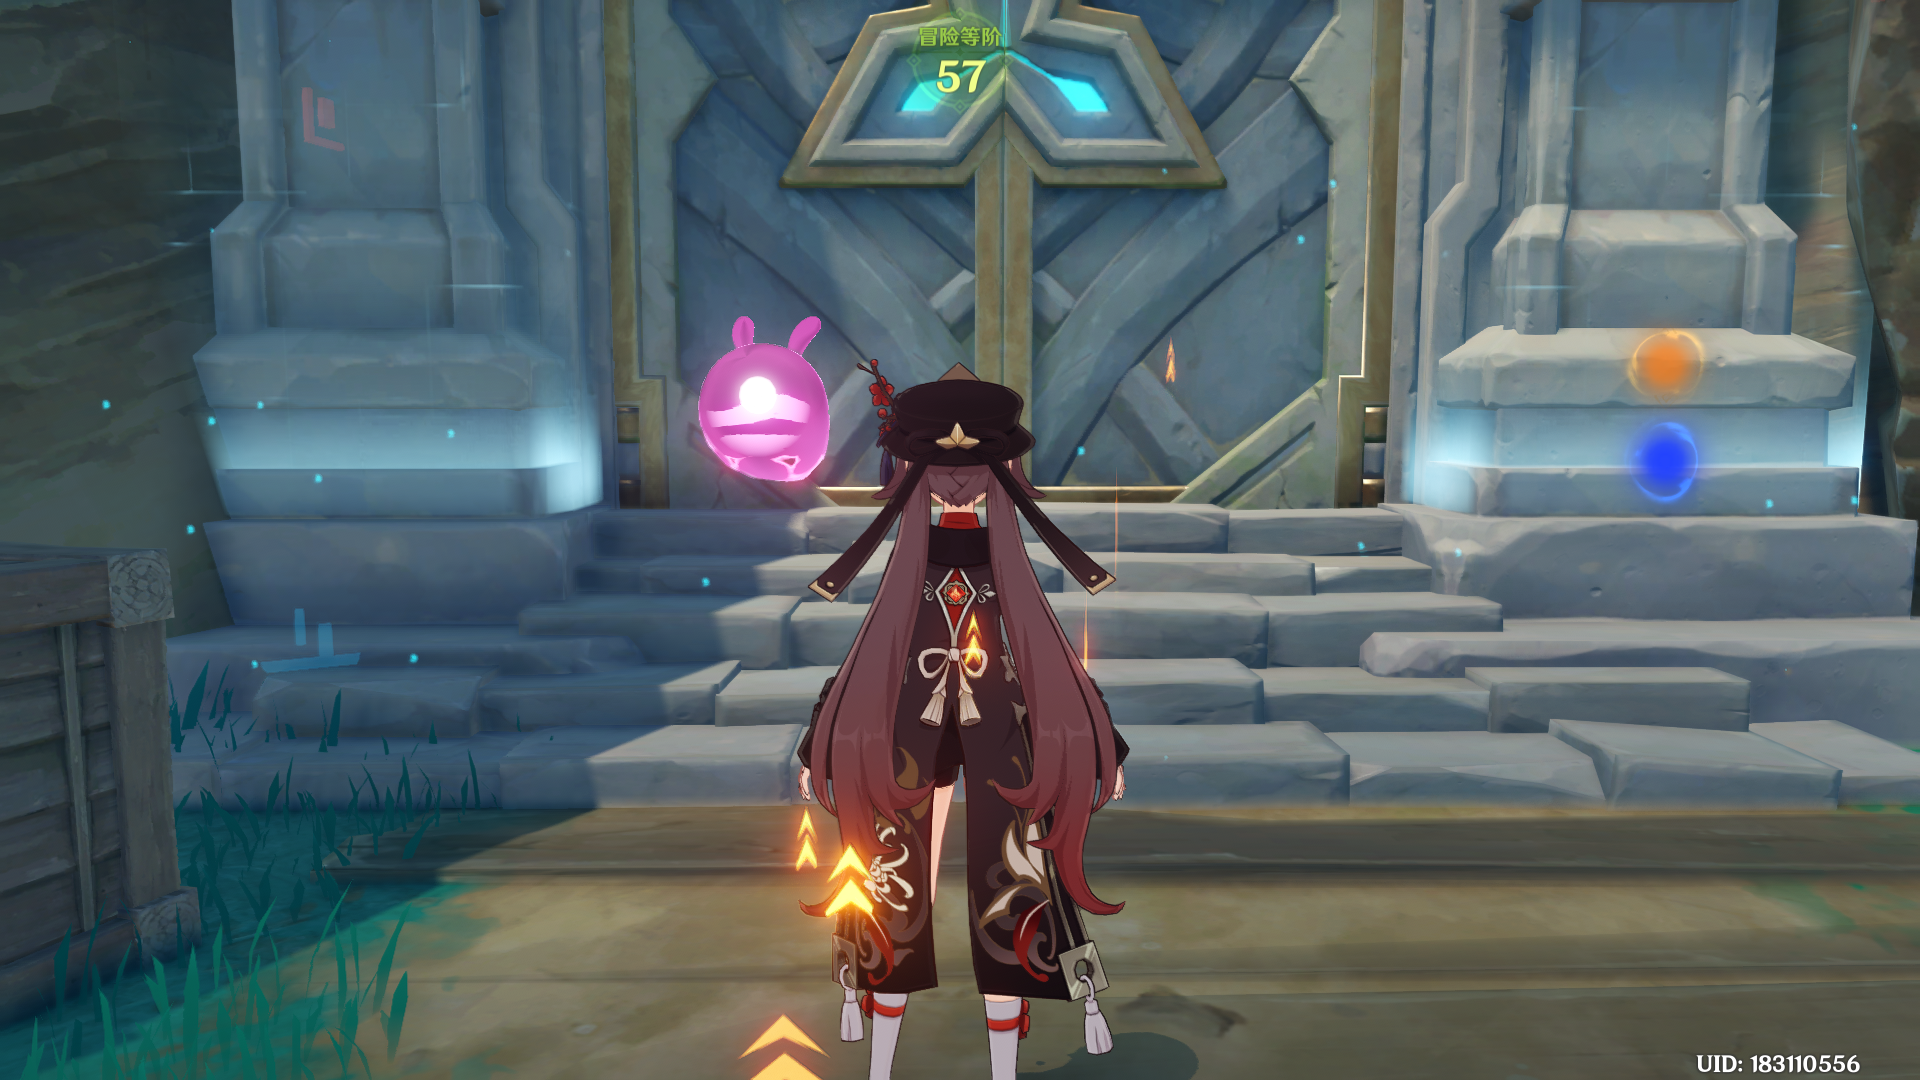character: (744, 345, 1168, 1080)
